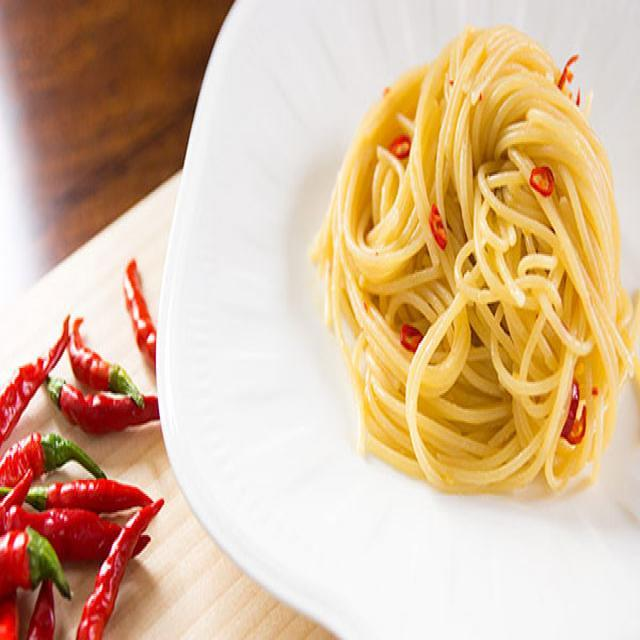Oil pasta: (283, 2, 619, 534)
